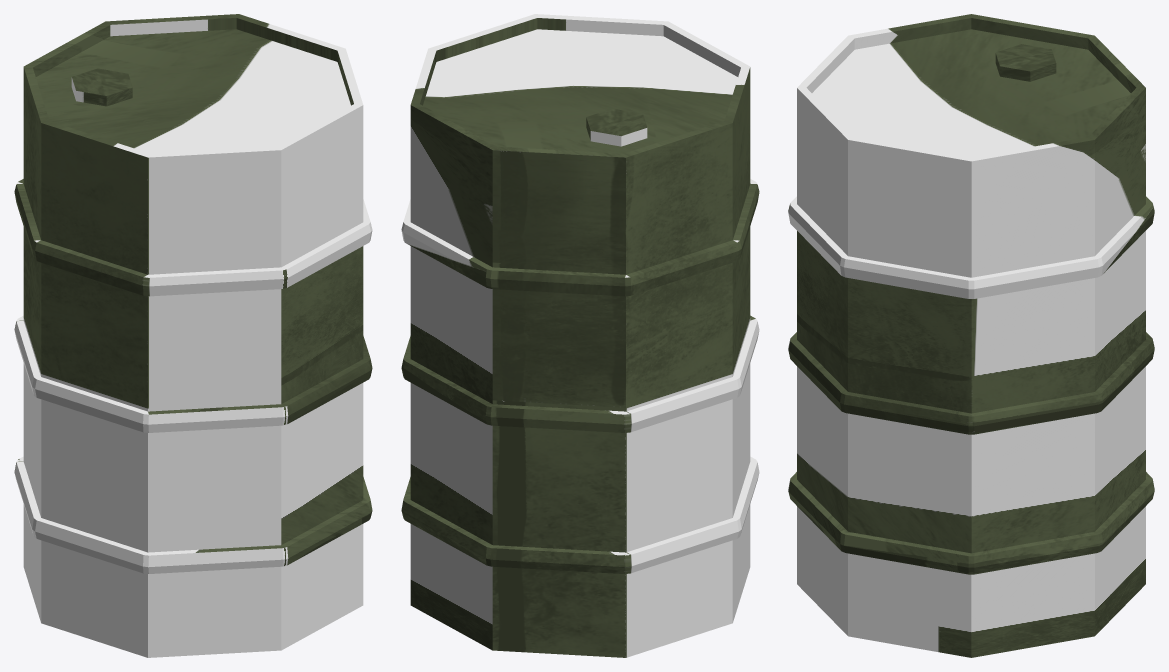
The model's file is Barrel 1.obj.
The picture shows the model from 3 angles, left to right: view 1: azimuth 30°, elevation 25°; view 2: azimuth 150°, elevation 25°; view 3: azimuth 270°, elevation 25°; orthographic projection.
Parts seen in each view (by area): view 1: Gas_tank_Cylinder_None; view 2: Gas_tank_Cylinder_None; view 3: Gas_tank_Cylinder_None.
Boxes of the visible parts, box(x1,y1,x2,y2) form: Gas_tank_Cylinder_None: box(14, 14, 372, 657); Gas_tank_Cylinder_None: box(401, 14, 759, 657); Gas_tank_Cylinder_None: box(788, 14, 1154, 657).
Size of the model in its own units: 1.46 by 2.18 by 1.46.
